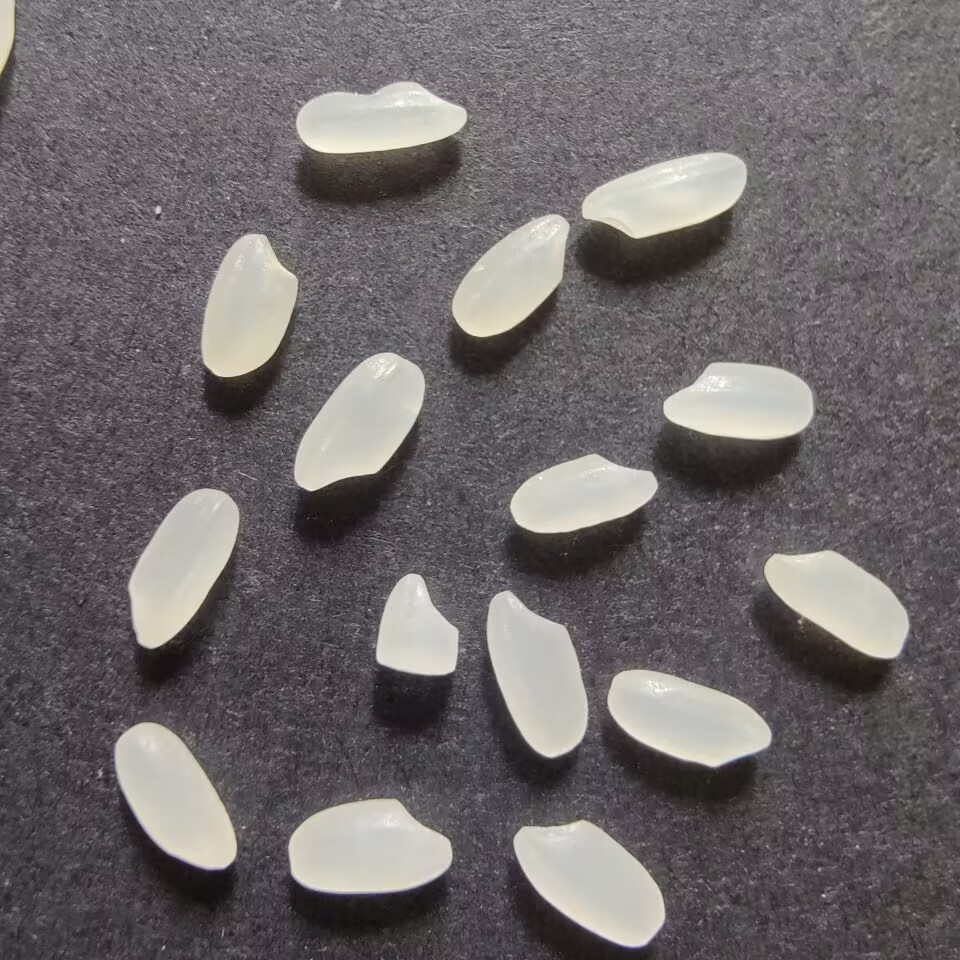broken: (369, 566, 461, 679)
rice: (510, 817, 669, 955), (289, 347, 428, 496), (123, 485, 245, 653), (108, 720, 239, 876), (481, 585, 593, 763), (283, 793, 458, 900), (762, 545, 913, 665), (603, 664, 775, 768), (577, 145, 750, 240), (451, 208, 575, 339), (198, 226, 301, 383), (291, 76, 469, 158), (507, 447, 661, 541), (658, 359, 816, 447)
